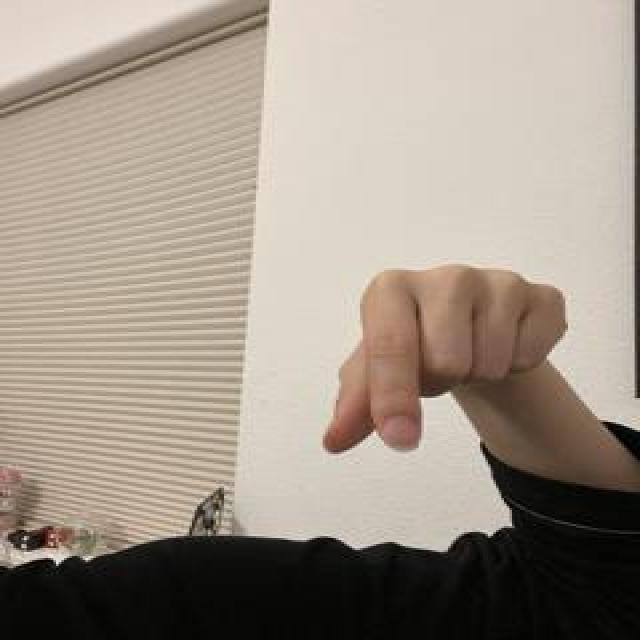Q: (317, 258, 576, 458)
